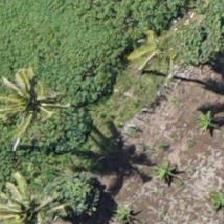coconut_tree: (0, 52, 64, 142)
